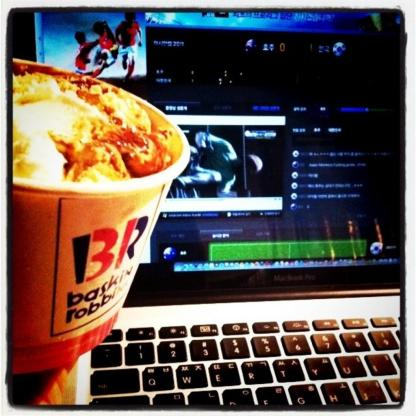board: (34, 13, 415, 415)
